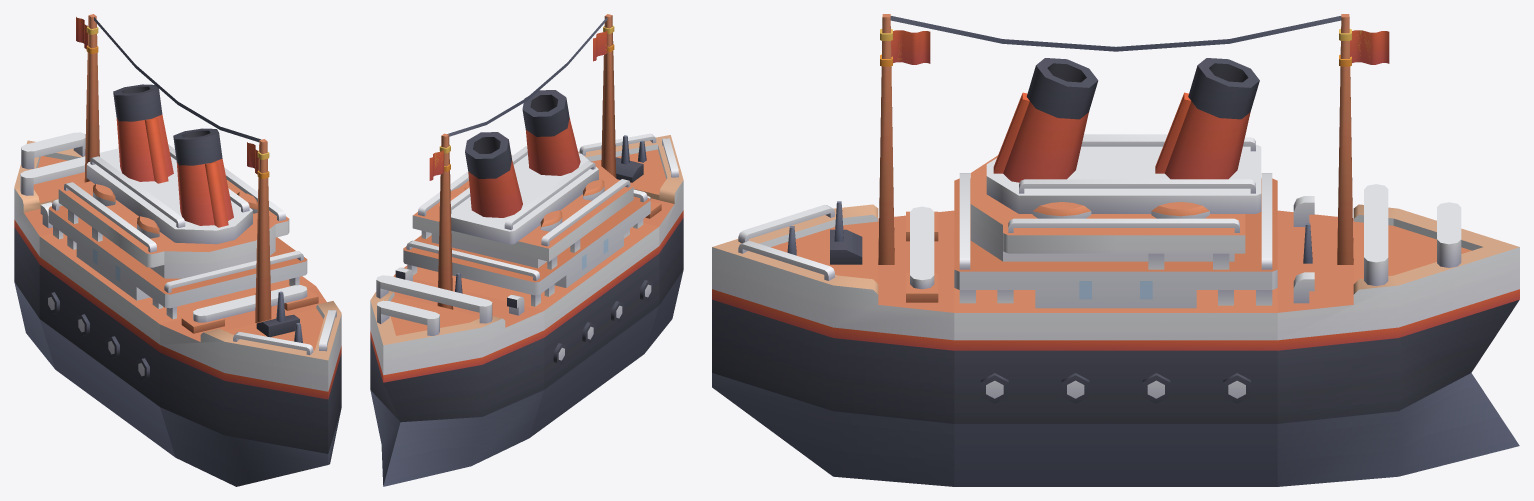
Rendered from kenney-watercraft-ship-ocean-liner-small.glb.
3 renders of one model, left to right at view 1: azimuth 30°, elevation 25°; view 2: azimuth 150°, elevation 25°; view 3: azimuth 270°, elevation 25°, orthographic. The views are drawn at different scales.
Parts seen in each view (by area): view 1: ship-ocean-liner-small; view 2: ship-ocean-liner-small; view 3: ship-ocean-liner-small.
Boxes of the visible parts, box(x1,y1,x2,y2) form: ship-ocean-liner-small: box(14, 14, 341, 486); ship-ocean-liner-small: box(370, 14, 683, 486); ship-ocean-liner-small: box(712, 14, 1519, 486).
Size of the model in its own units: 4.76 by 8.93 by 15.2.
Materials: 1 (1 with a texture image).
